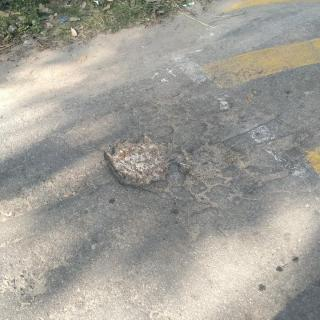pothole: (102, 132, 255, 201)
